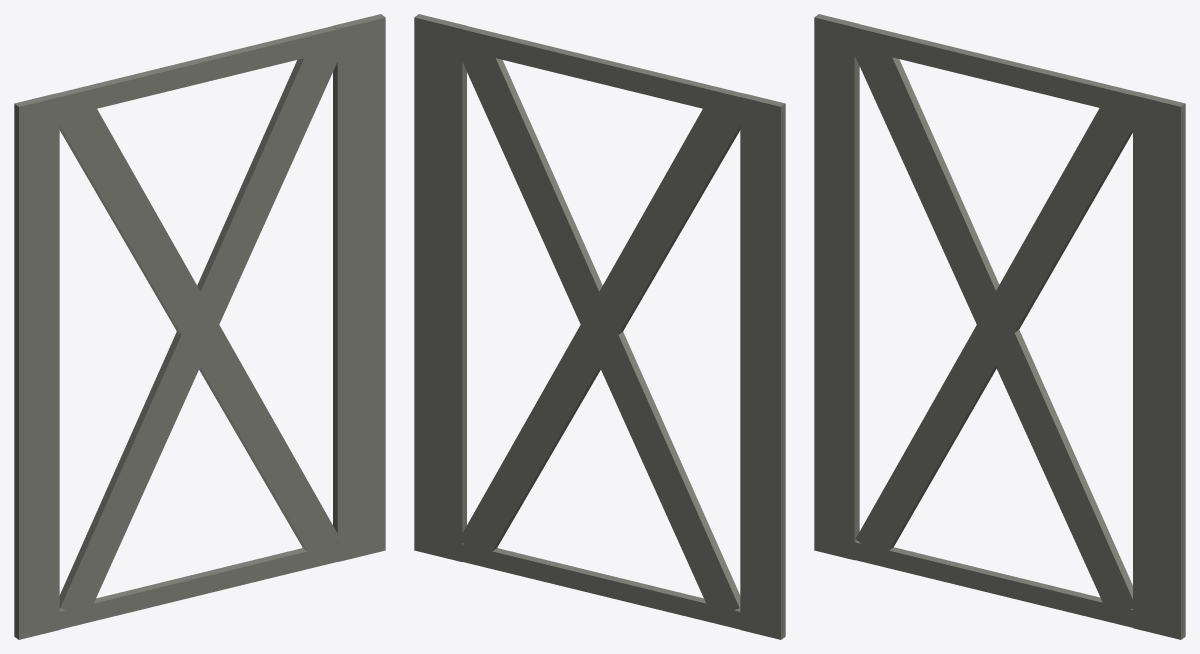
The model's file is metal_barricade_04.fbx.
The picture shows the model from 3 angles, left to right: view 1: azimuth 30°, elevation 25°; view 2: azimuth 150°, elevation 25°; view 3: azimuth 330°, elevation 25°; orthographic projection.
Visible parts, largest first — view 1: metal_barricade_04; view 2: metal_barricade_04; view 3: metal_barricade_04.
Boxes of the visible parts, x1=… form: metal_barricade_04: x1=14, y1=14, x2=385, y2=639; metal_barricade_04: x1=414, y1=14, x2=785, y2=639; metal_barricade_04: x1=814, y1=14, x2=1185, y2=639.
Bounding box in the file's own units: 202 × 280 × 4.47.
